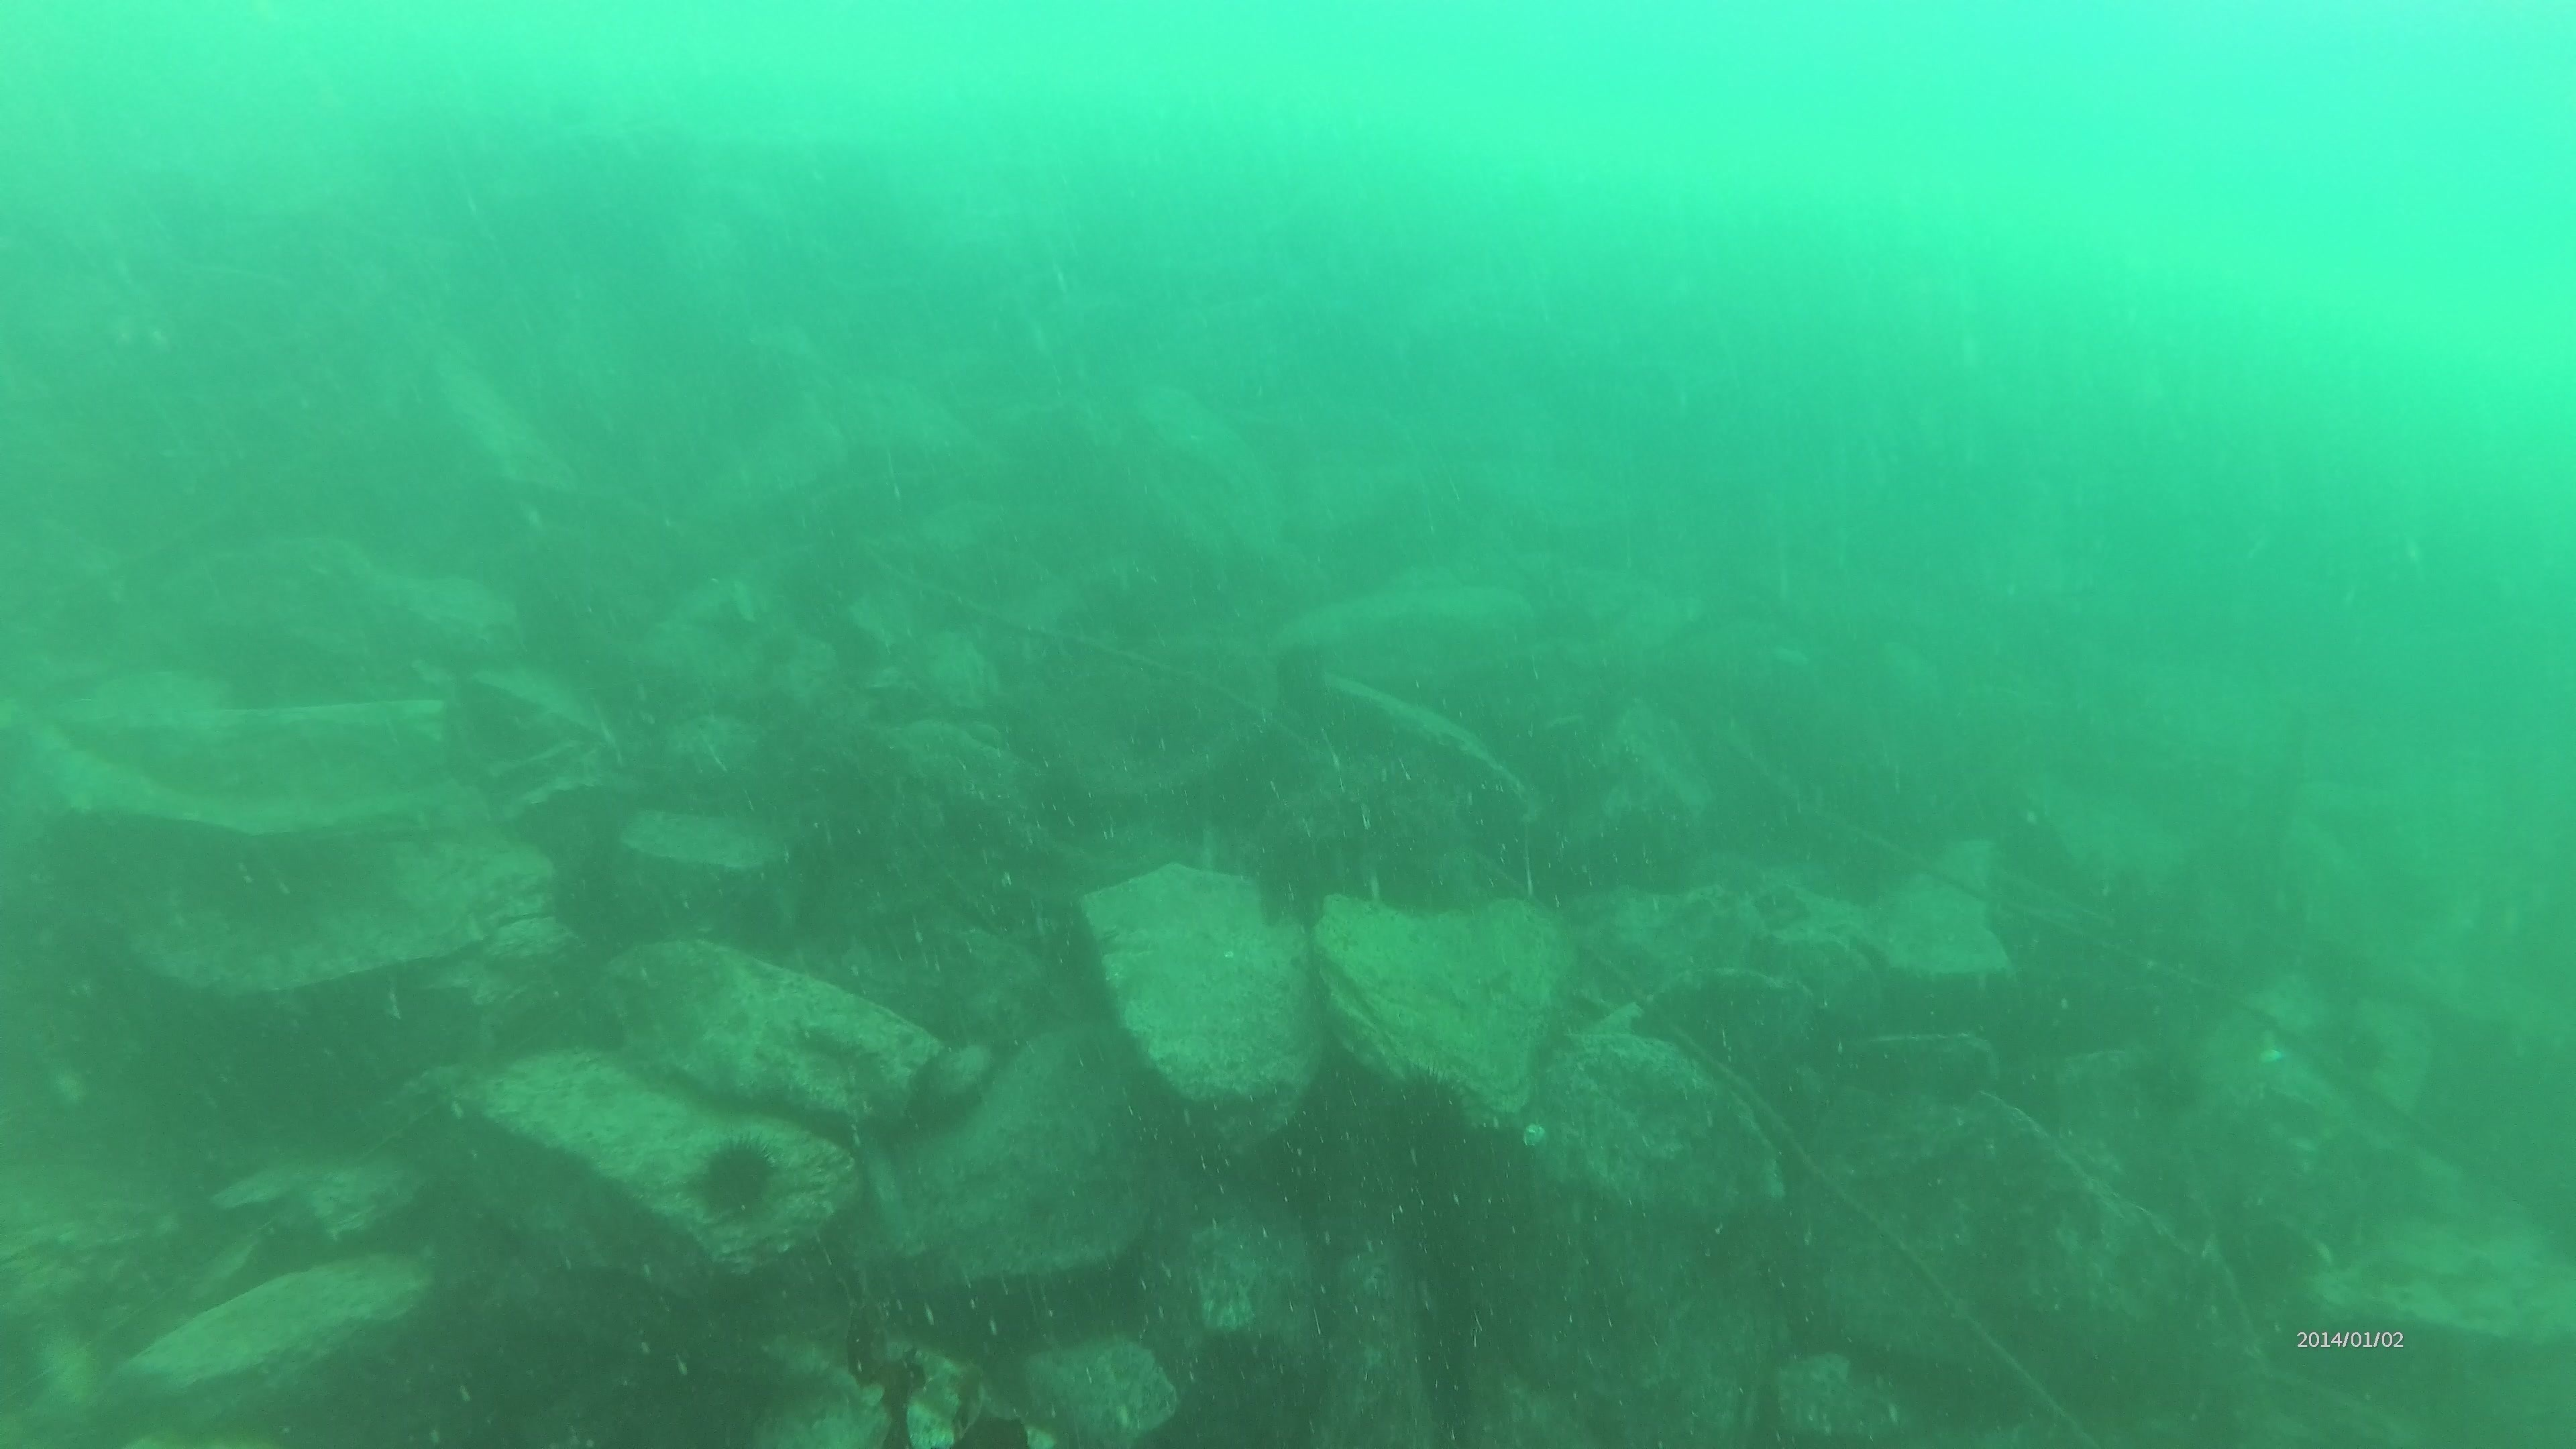echinus: (679, 1129, 794, 1231)
